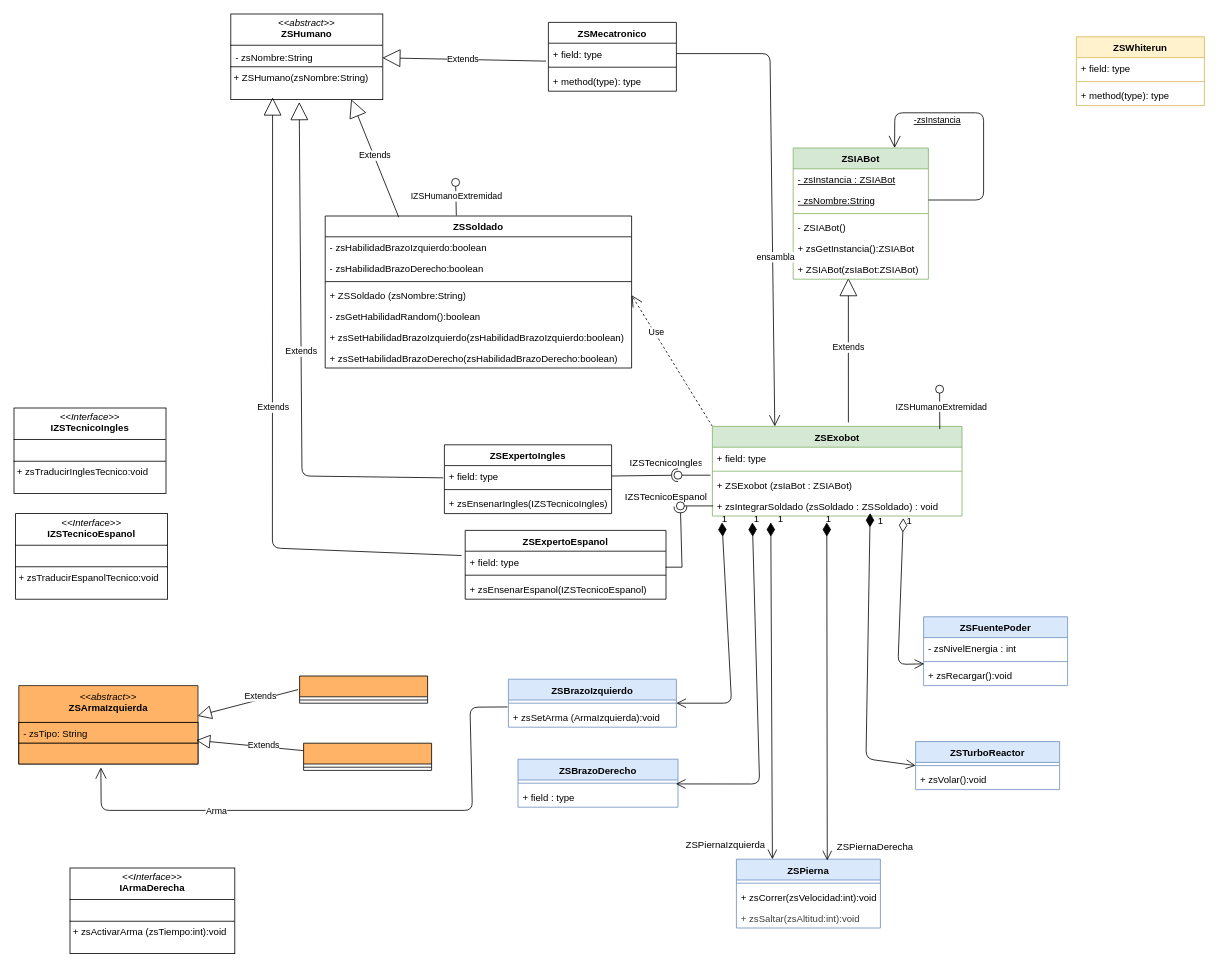
Some shapes in this 1218 by 968 pixel diagram are drawn without their labels. The centre of each missing label's shape, as x and y in pixels:
+ zsDisparar(zsCantidadBalas:int):void: pixel 108 753
ZSArmaBazuca: pixel 367 756
ZSArmaMetralleta: pixel 363 689
